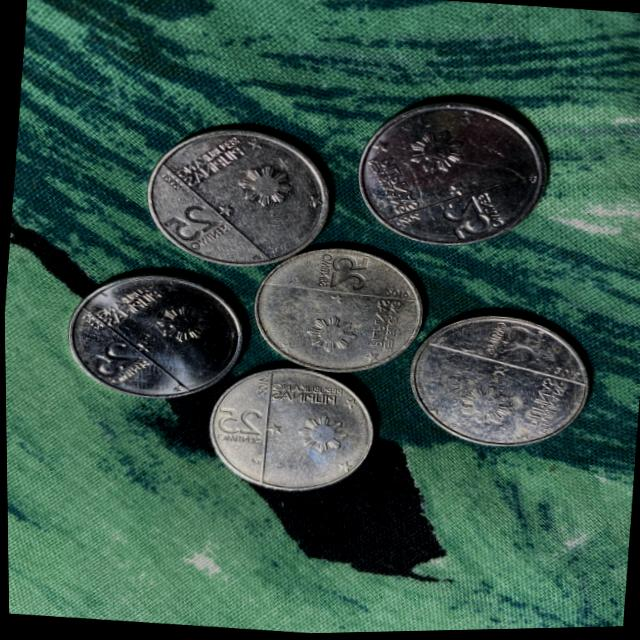25Cent_New_Front: (161, 200, 220, 244), (436, 200, 490, 243), (494, 326, 547, 367), (85, 340, 138, 377), (323, 255, 374, 293), (216, 404, 268, 437)
